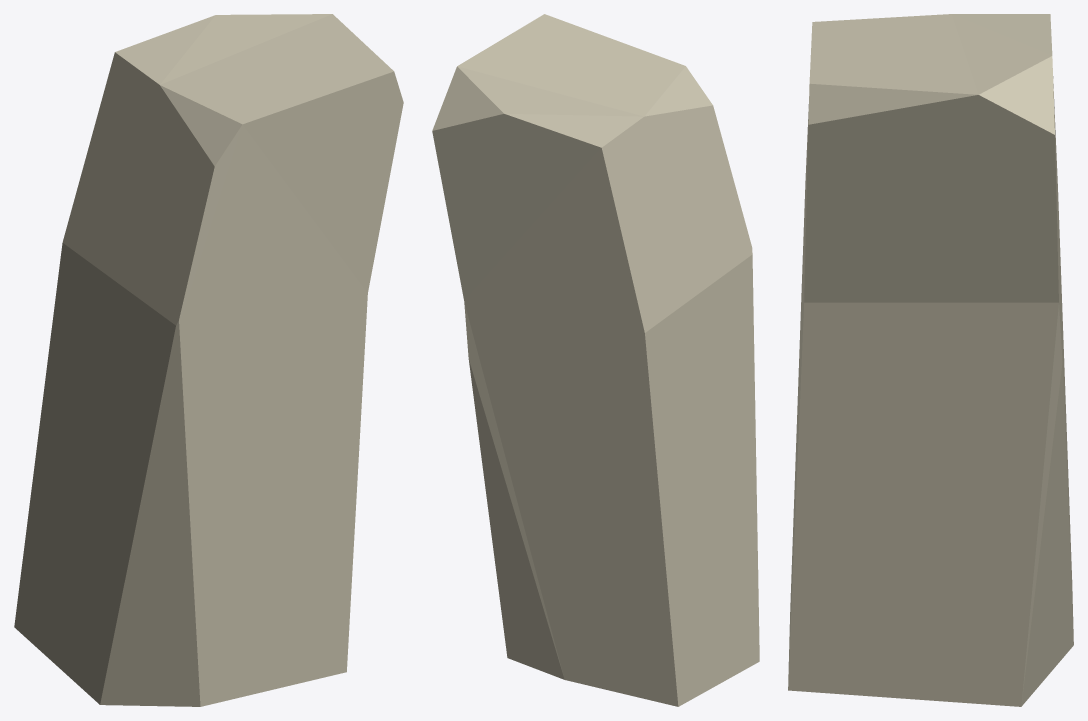
File: Rock_Square_l_06.fbx
3 renders of one model, left to right at view 1: azimuth 30°, elevation 25°; view 2: azimuth 150°, elevation 25°; view 3: azimuth 270°, elevation 25°, orthographic. The views are drawn at different scales.
Visible parts, largest first — view 1: Rock_Square_l_06; view 2: Rock_Square_l_06; view 3: Rock_Square_l_06.
Boxes of the visible parts, left/top/right/bottom form: Rock_Square_l_06: left=14, top=14, right=403, bottom=706; Rock_Square_l_06: left=432, top=14, right=759, bottom=706; Rock_Square_l_06: left=788, top=14, right=1073, bottom=706.
Size of the model in its own units: 1.66 by 3.43 by 1.36.
